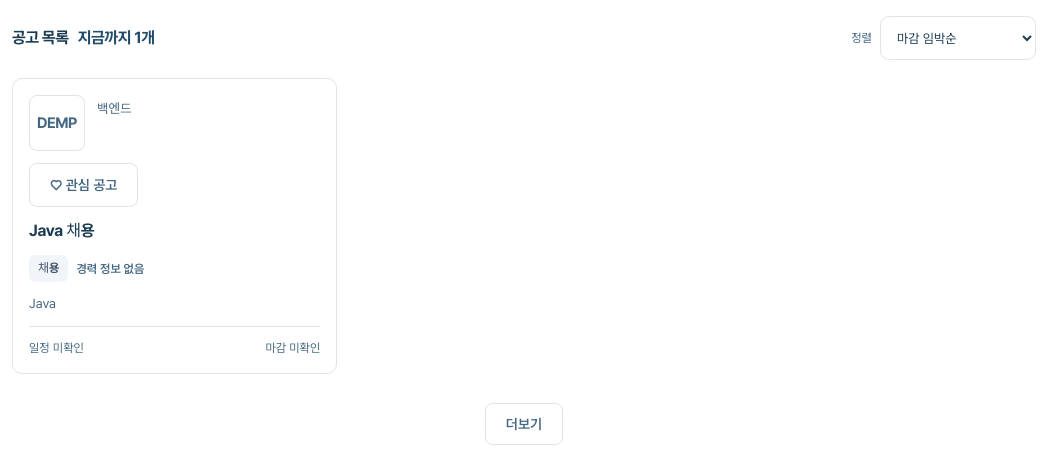
Test: 공고 더보기는 제목과 직군 조건을 유지한 다음 페이지를 요청한다
Click the button with test id "load-more" at (524, 424), box x1=485 y1=402 x2=563 y2=445
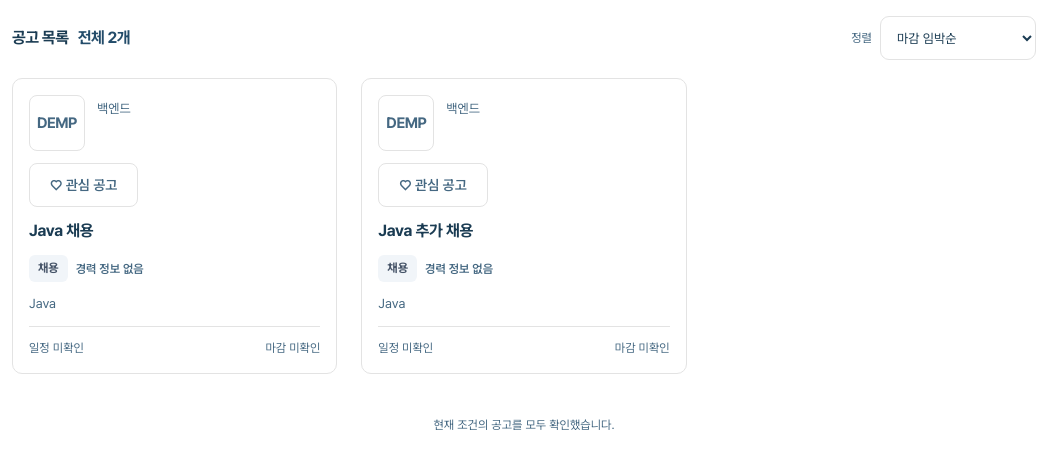
Check: the text "Java 채용" is shown, box x1=29 y1=221 x2=93 y2=240
Check: the text "Java 추가 채용" is shown, box x1=378 y1=221 x2=473 y2=240
